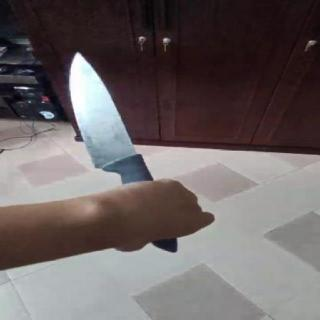knife: (55, 51, 167, 183)
